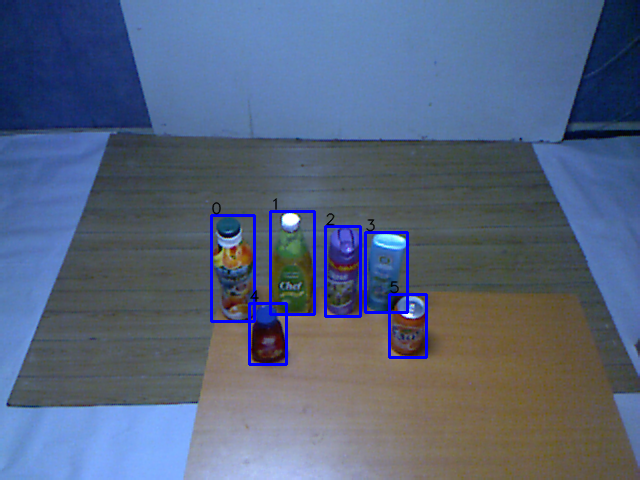aceite: (262, 210, 318, 319)
aerosol: (320, 224, 366, 321)
balsamo: (363, 229, 409, 317)
ketchup: (244, 300, 292, 367)
lata: (383, 292, 430, 361)
yogurt: (203, 216, 264, 327)
